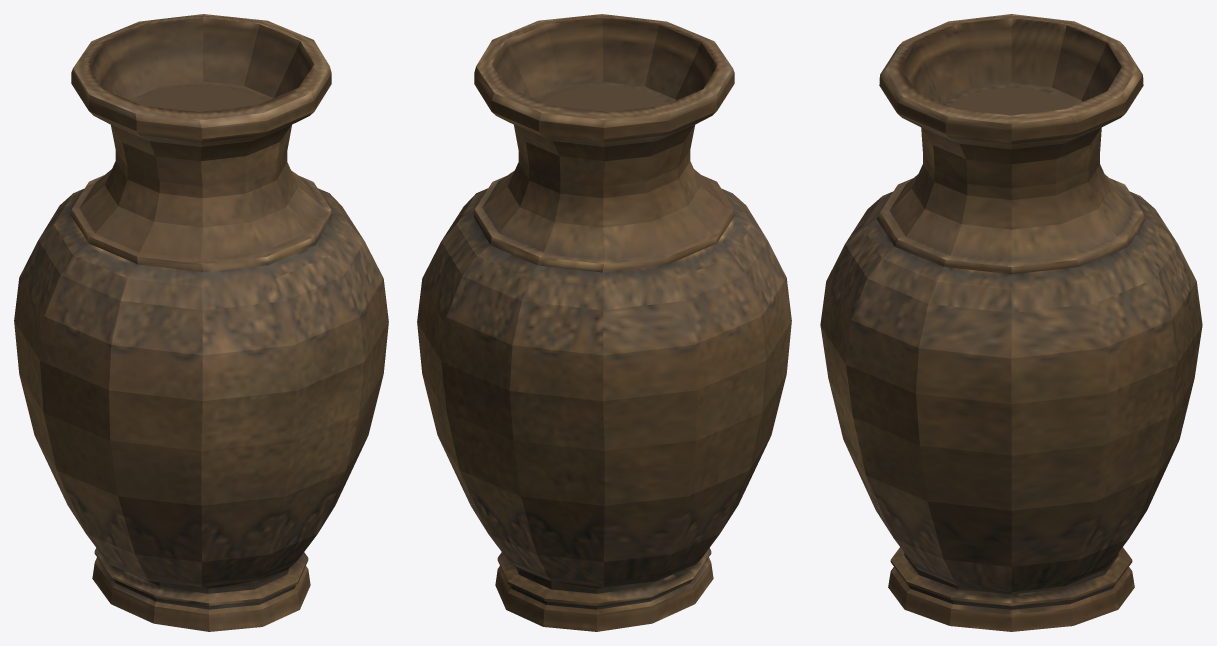
The model's file is DecorVase.fbx.
3 views of the same model, side by side, from view 1: azimuth 30°, elevation 25°; view 2: azimuth 150°, elevation 25°; view 3: azimuth 270°, elevation 25° (orthographic).
Visible parts, largest first — view 1: DecorVase_Low; view 2: DecorVase_Low; view 3: DecorVase_Low.
Part boxes in pixels (bbox=[...]): DecorVase_Low: bbox=[14, 14, 388, 631]; DecorVase_Low: bbox=[417, 14, 791, 631]; DecorVase_Low: bbox=[820, 14, 1202, 631].
Size of the model in its own units: 0.2792 by 0.4267 by 0.284.
